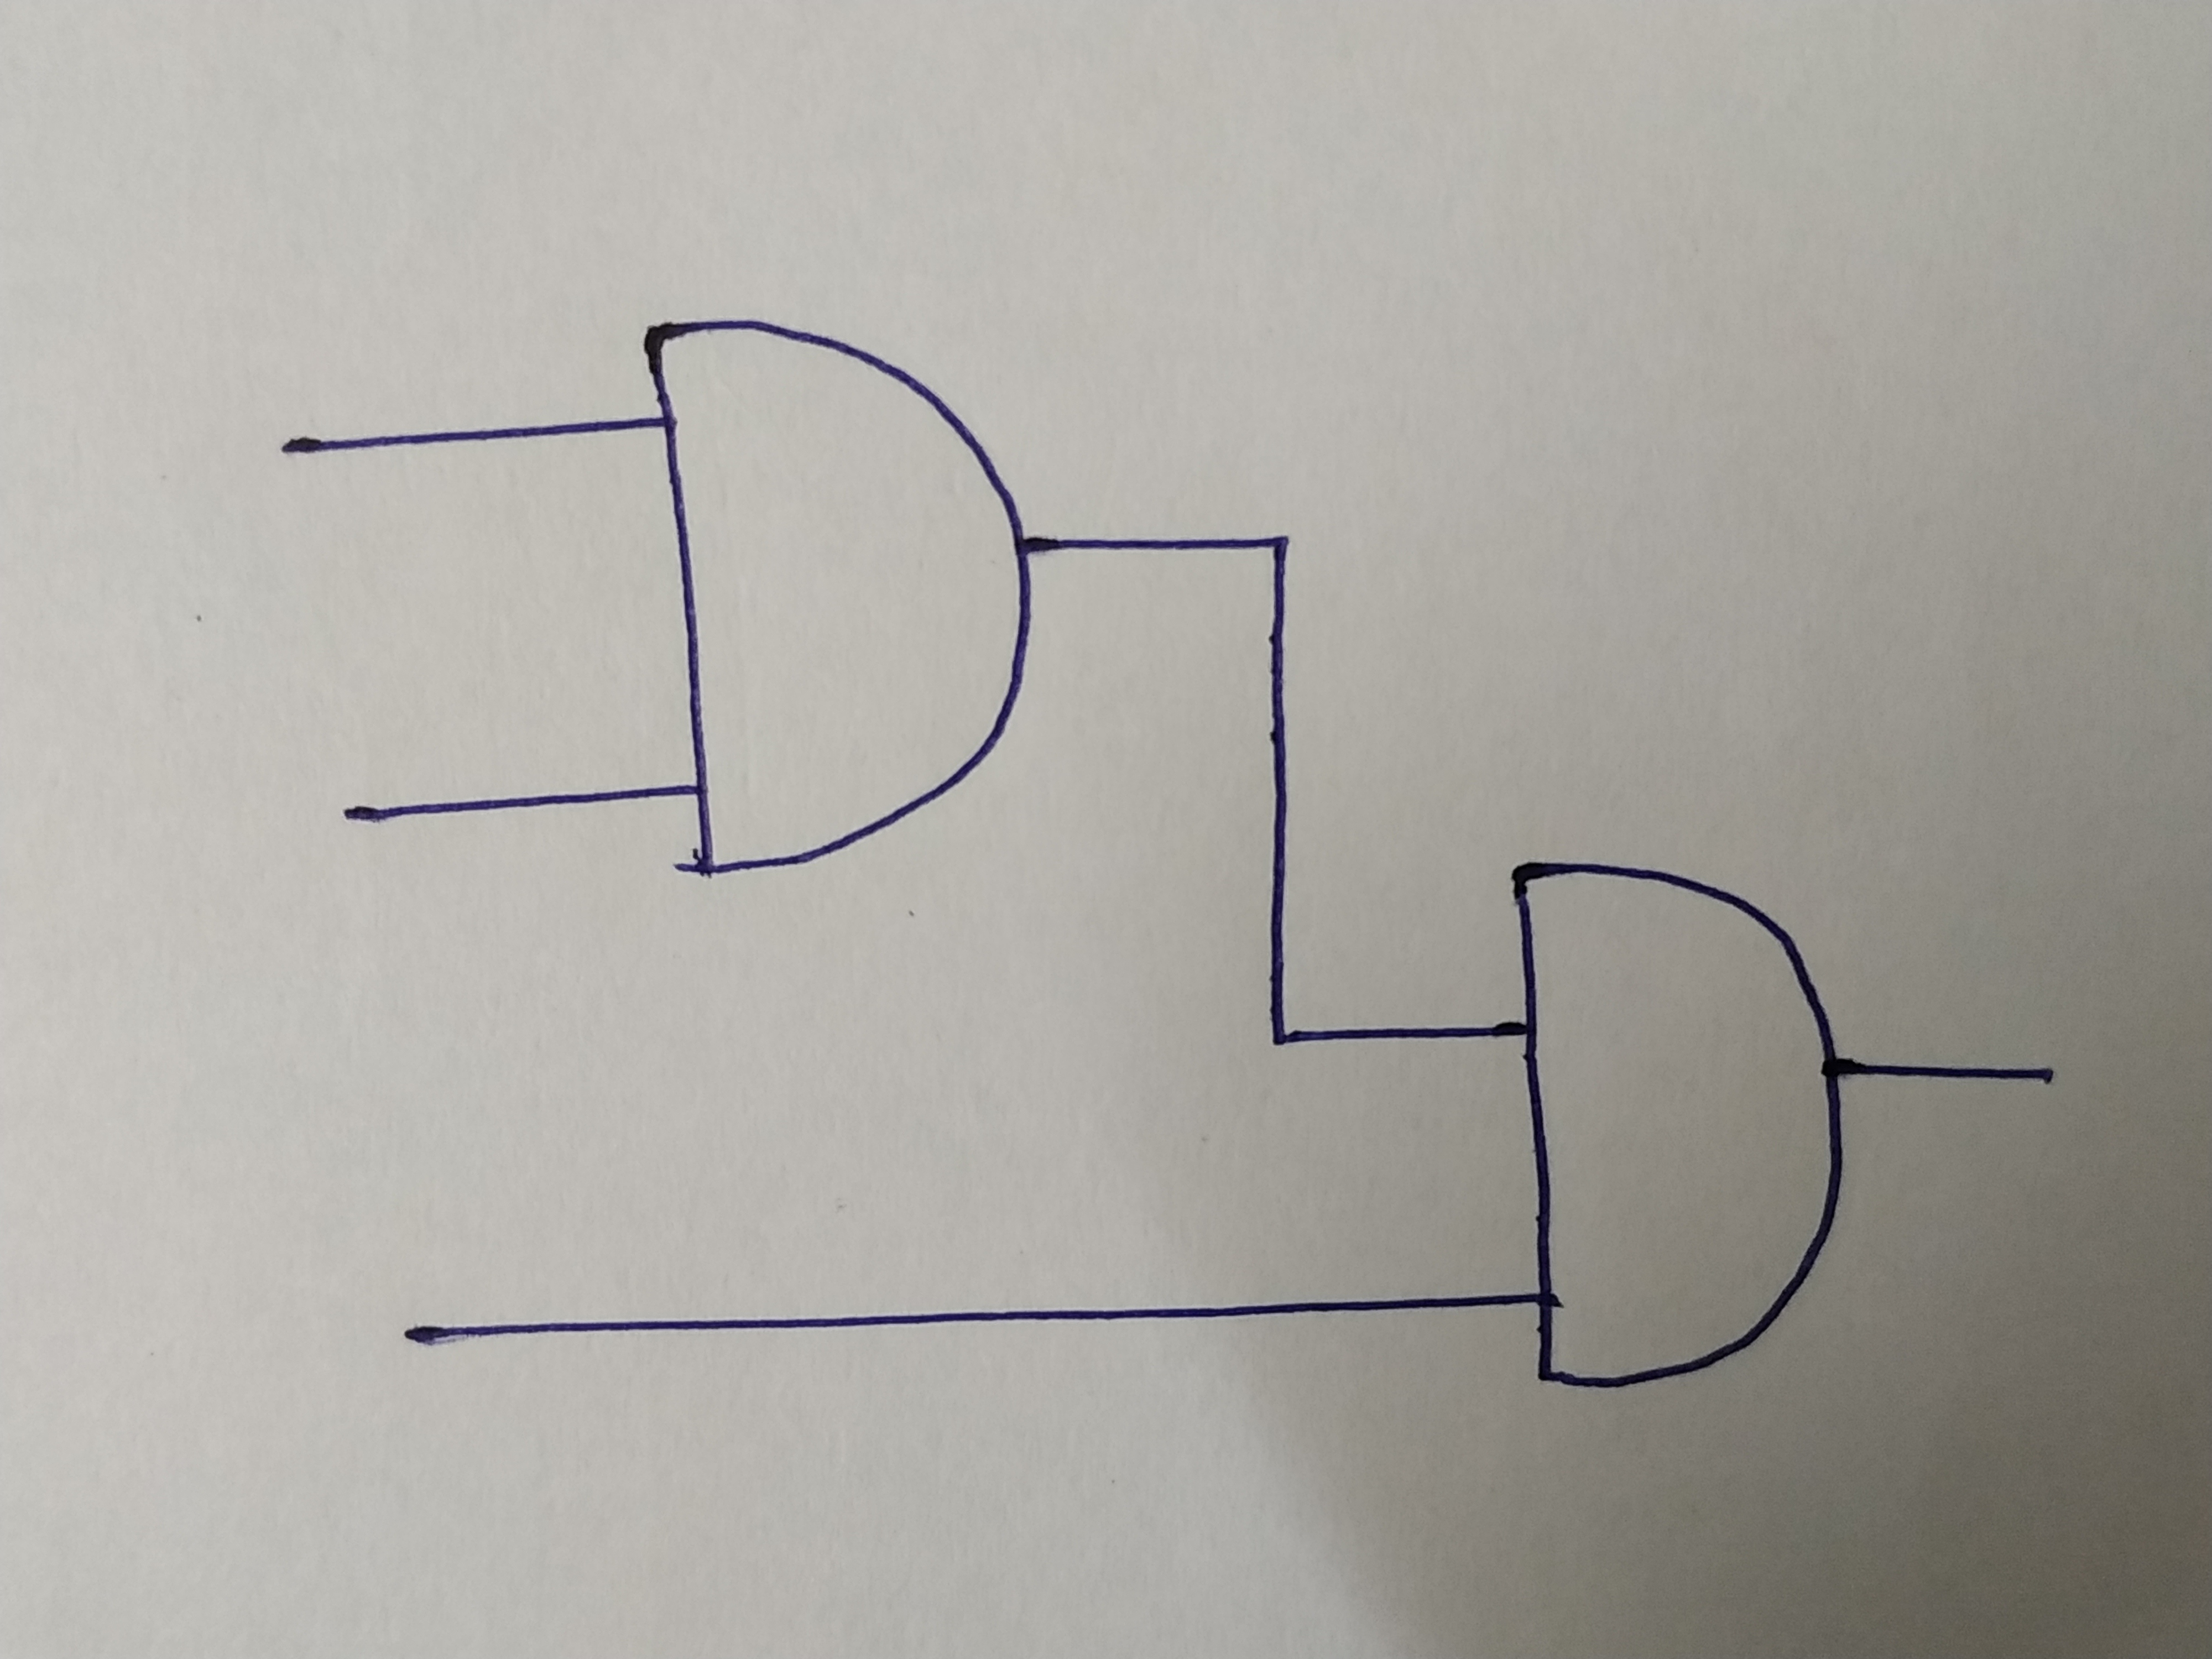and: (653, 328, 1038, 871), (1514, 861, 1844, 1389)
